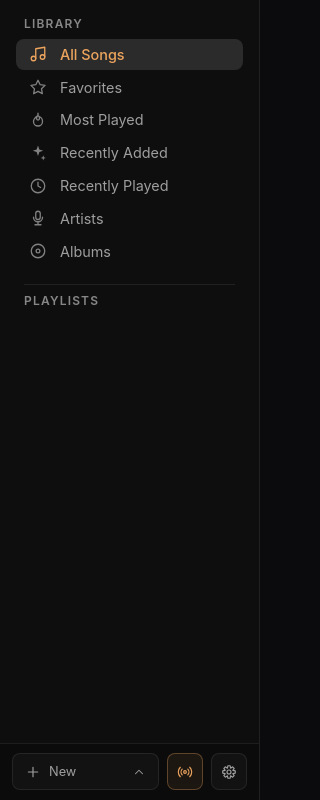
Test: Sidebar New menu › closes after choosing an item
The image size is (320, 800).
Click the button "New" at point(86, 772), box [12,753,159,790]
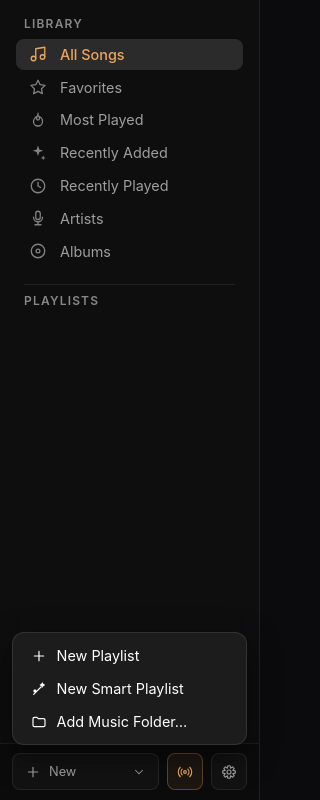
Click the text "New Playlist" at point(85, 656), box [31,647,139,664]
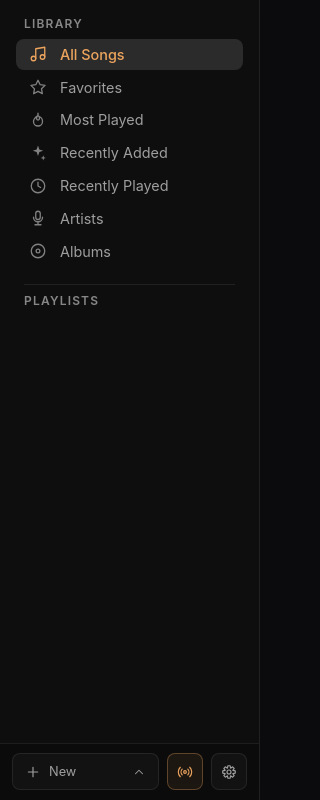
Result: the text "New Smart Playlist" is gone
